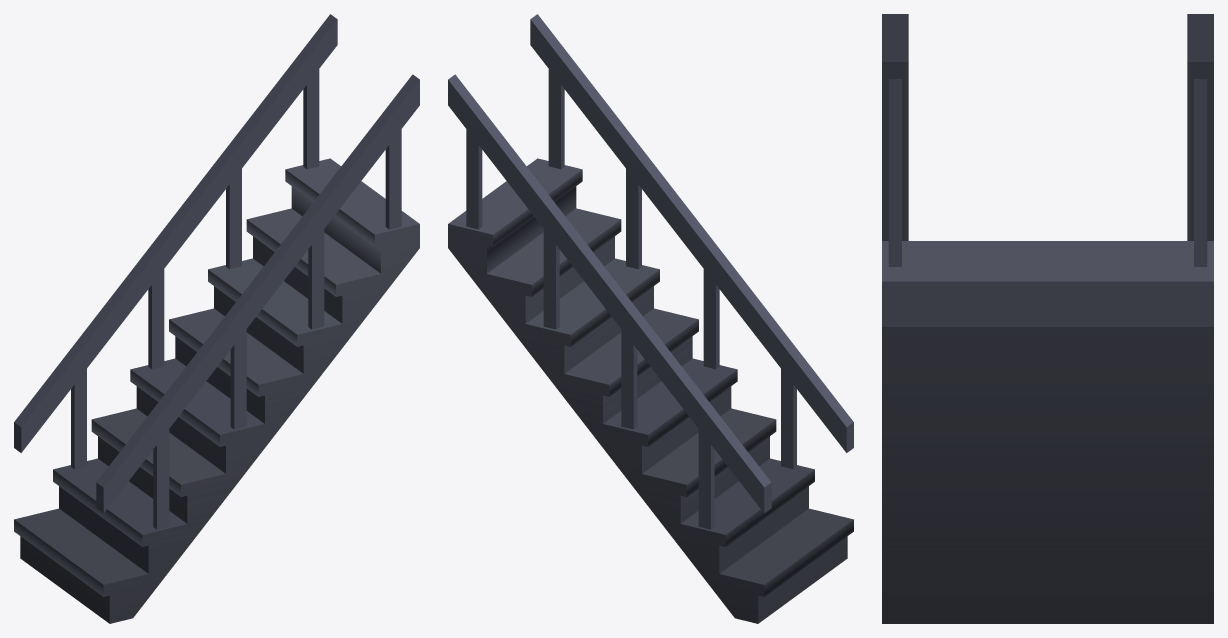
The model's file is stairs-stone-handrail.glb.
3 views of the same model, side by side, from view 1: azimuth 30°, elevation 25°; view 2: azimuth 150°, elevation 25°; view 3: azimuth 270°, elevation 25° (orthographic). The views are drawn at different scales.
Parts seen in each view (by area): view 1: stairs-stone-handrail; view 2: stairs-stone-handrail; view 3: stairs-stone-handrail.
Part boxes in pixels (bbox=[...]): stairs-stone-handrail: bbox=[14, 14, 419, 623]; stairs-stone-handrail: bbox=[448, 14, 853, 623]; stairs-stone-handrail: bbox=[882, 14, 1213, 623].
Bounding box in the file's own units: 1.02 × 1.45 × 0.5.
Materials: 1 (1 with a texture image).
